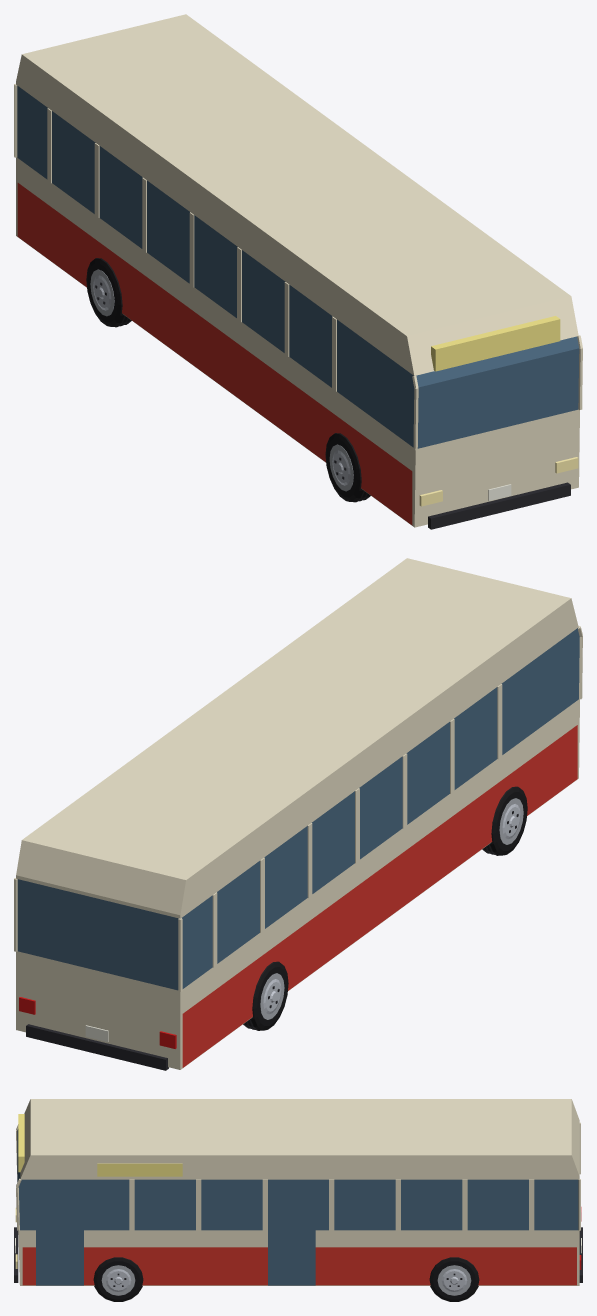
The model's file is vehicle_bus.glb.
The picture shows the model from 3 angles, top to bottom: view 1: azimuth 30°, elevation 25°; view 2: azimuth 150°, elevation 25°; view 3: azimuth 270°, elevation 25°; orthographic projection. The views are drawn at different scales.
Parts seen in each view (by area): view 1: bus_body, bus_wheel_fr, bus_wheel_rr; view 2: bus_body, bus_wheel_fr, bus_wheel_rr; view 3: bus_body, bus_wheel_fl, bus_wheel_rl.
Part boxes in pixels (x1,y1,x2,y2): bus_body: [14, 14, 582, 529]; bus_wheel_fr: [325, 433, 370, 502]; bus_wheel_rr: [86, 258, 131, 327]; bus_body: [14, 558, 582, 1070]; bus_wheel_fr: [482, 786, 527, 855]; bus_wheel_rr: [243, 961, 288, 1030]; bus_body: [14, 1099, 582, 1285]; bus_wheel_fl: [93, 1257, 143, 1301]; bus_wheel_rl: [429, 1257, 479, 1301].
Size of the model in its own units: 2.65 by 3.05 by 10.67.
